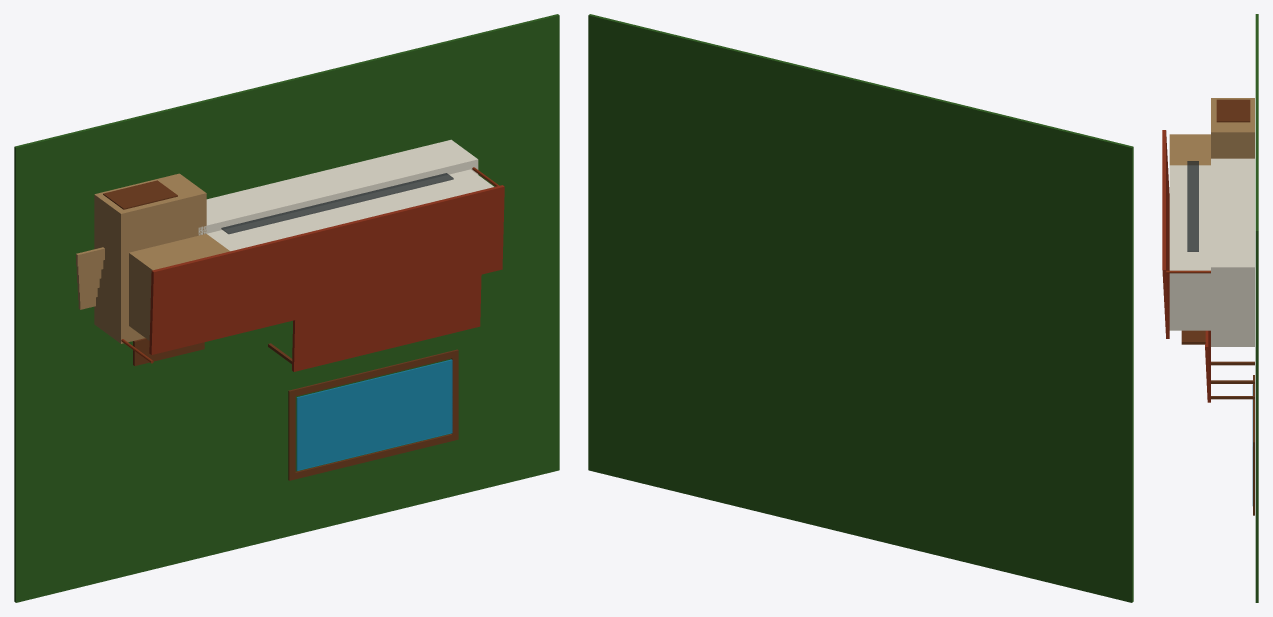
Rendered from Aroeira_approx_model.obj.
The picture shows the model from 3 angles, left to right: view 1: azimuth 30°, elevation 25°; view 2: azimuth 150°, elevation 25°; view 3: azimuth 270°, elevation 25°; orthographic projection. The views are drawn at different scales.
Visible parts, largest first — view 1: terrain, main_roof, pool_water, veranda_roof, GF_main, GF_leftwing, left_roof, UF_main, UF_left, front_strip_window, pool_deck_top, pool_deck_bottom (+3 smaller); view 2: terrain; view 3: GF_main, UF_main, terrain, GF_leftwing, UF_left, main_roof, front_strip_window, garage_door, veranda_roof, UF_timber_band, left_roof, veranda_col_12.2 (+3 smaller).
Part boxes in pixels (left/top/right/bottom): terrain: left=14, top=14, right=559, bottom=602; main_roof: left=229, top=185, right=504, bottom=335; pool_water: left=296, top=359, right=452, bottom=470; veranda_roof: left=292, top=274, right=481, bottom=371; GF_main: left=198, top=139, right=478, bottom=235; GF_leftwing: left=94, top=173, right=206, bottom=343; left_roof: left=149, top=250, right=236, bottom=354; UF_main: left=207, top=169, right=493, bottom=251; UF_left: left=129, top=234, right=229, bottom=340; front_strip_window: left=221, top=173, right=453, bottom=234; pool_deck_top: left=288, top=433, right=458, bottom=480; pool_deck_bottom: left=288, top=350, right=457, bottom=397; terrain: left=588, top=14, right=1133, bottom=602; GF_main: left=1211, top=158, right=1254, bottom=346; UF_main: left=1169, top=165, right=1210, bottom=330; terrain: left=1255, top=14, right=1258, bottom=602; GF_leftwing: left=1211, top=98, right=1254, bottom=158; UF_left: left=1169, top=134, right=1210, bottom=165; main_roof: left=1162, top=163, right=1169, bottom=338; front_strip_window: left=1187, top=161, right=1198, bottom=251; garage_door: left=1216, top=99, right=1250, bottom=122; veranda_roof: left=1205, top=330, right=1210, bottom=402; UF_timber_band: left=1181, top=330, right=1205, bottom=344; left_roof: left=1162, top=130, right=1169, bottom=226; veranda_col_12.2: left=1211, top=361, right=1254, bottom=365.
Bounding box in the file's own units: 35 × 28 × 6.55.
